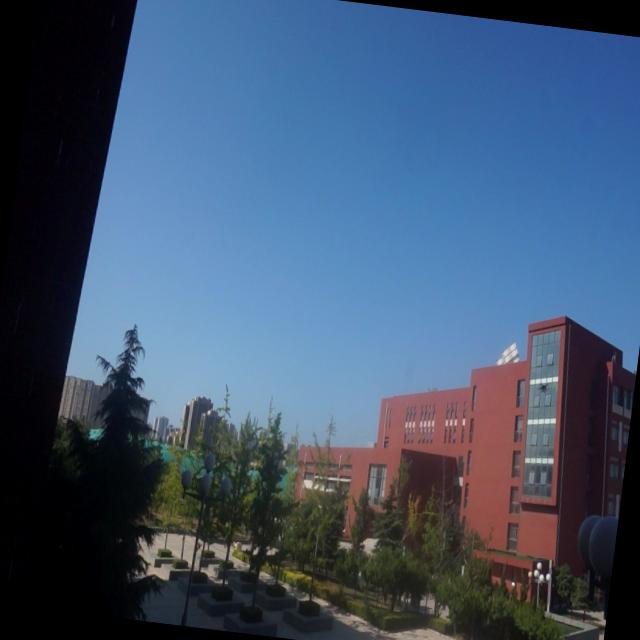drone: (537, 378, 549, 394)
